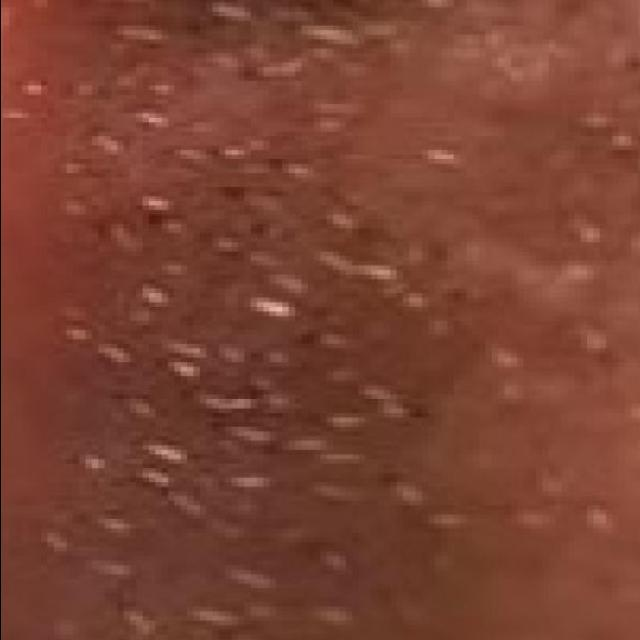whitehead: (39, 0, 640, 640)
